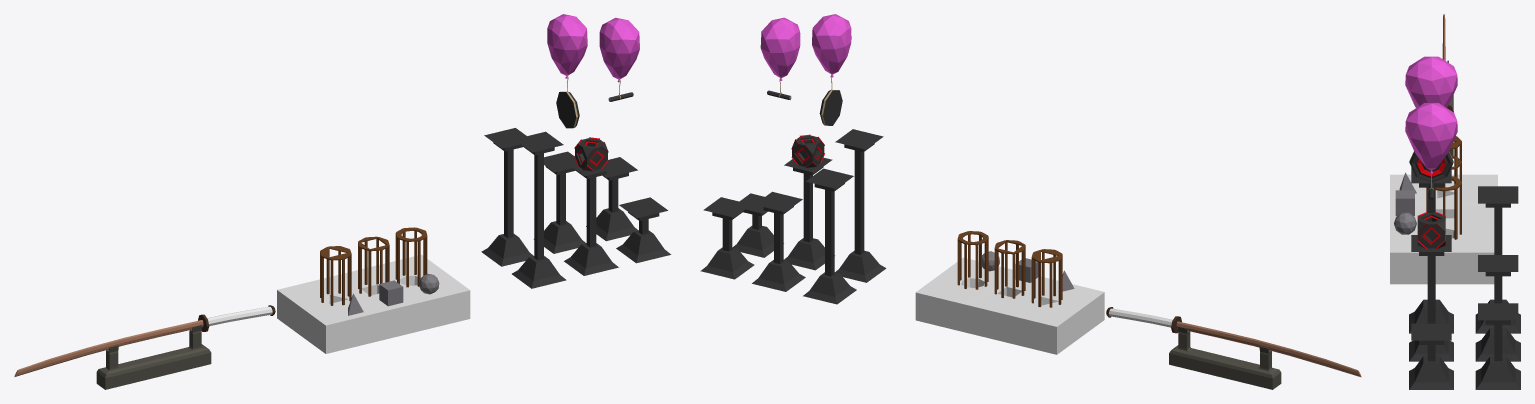
File: minijeuvr.fbx
3 renders of one model, left to right at view 1: azimuth 30°, elevation 25°; view 2: azimuth 150°, elevation 25°; view 3: azimuth 270°, elevation 25°, orthographic. The views are drawn at different scales.
Visible parts, largest first — view 1: socle.001, socle, socleXL, recepteurlaser, socleL, sabre, socleM, emetteurlaser, socleS, socleXSS, socleXS, droppeurtriangle (+3 smaller); view 2: socle.001, socle, socleXL, recepteurlaser, socleL, socleS, sabre, socleXS, emetteurlaser, socleM, socleXSS, droppeurtriangle (+3 smaller); view 3: socle.001, recepteurlaser, emetteurlaser, socleXS, socleXSS, socleS, socleL, socleM, socleXL, Cubereflector, dropperboule, Cube (+5 smaller).
Boxes of the visible parts, bbox=[...] form: socle.001: bbox=[277, 254, 470, 353]; socle: bbox=[96, 325, 211, 389]; socleXL: bbox=[512, 131, 566, 288]; recepteurlaser: bbox=[547, 14, 587, 128]; socleL: bbox=[481, 128, 533, 266]; sabre: bbox=[14, 305, 275, 376]; socleM: bbox=[564, 161, 618, 275]; emetteurlaser: bbox=[599, 17, 639, 101]; socleS: bbox=[533, 151, 585, 253]; socleXSS: bbox=[616, 197, 671, 263]; socleXS: bbox=[586, 157, 638, 241]; droppeurtriangle: bbox=[320, 246, 351, 305]; socle.001: bbox=[915, 257, 1104, 354]; socle: bbox=[1169, 326, 1281, 389]; socleXL: bbox=[835, 129, 886, 282]; recepteurlaser: bbox=[812, 14, 851, 125]; socleL: bbox=[803, 168, 856, 304]; socleS: bbox=[752, 191, 805, 291]; sabre: bbox=[1106, 307, 1361, 377]; socleXS: bbox=[700, 197, 754, 279]; emetteurlaser: bbox=[760, 17, 800, 99]; socleM: bbox=[784, 158, 834, 270]; socleXSS: bbox=[733, 193, 783, 257]; droppeurtriangle: bbox=[1031, 249, 1062, 307]; socle.001: bbox=[1390, 174, 1497, 284]; recepteurlaser: bbox=[1405, 56, 1457, 182]; emetteurlaser: bbox=[1405, 103, 1457, 199]; socleXS: bbox=[1475, 303, 1520, 389]; socleXSS: bbox=[1409, 323, 1453, 389]; socleS: bbox=[1475, 255, 1520, 361]; socleL: bbox=[1475, 186, 1520, 333]; socleM: bbox=[1409, 235, 1453, 361]; socleXL: bbox=[1409, 167, 1453, 333]; Cubereflector: bbox=[1417, 212, 1445, 248]; dropperboule: bbox=[1426, 176, 1461, 239]; Cube: bbox=[1395, 190, 1414, 215].
Size of what is drawn, in the model's own units: 8461 by 3317 by 1351.
